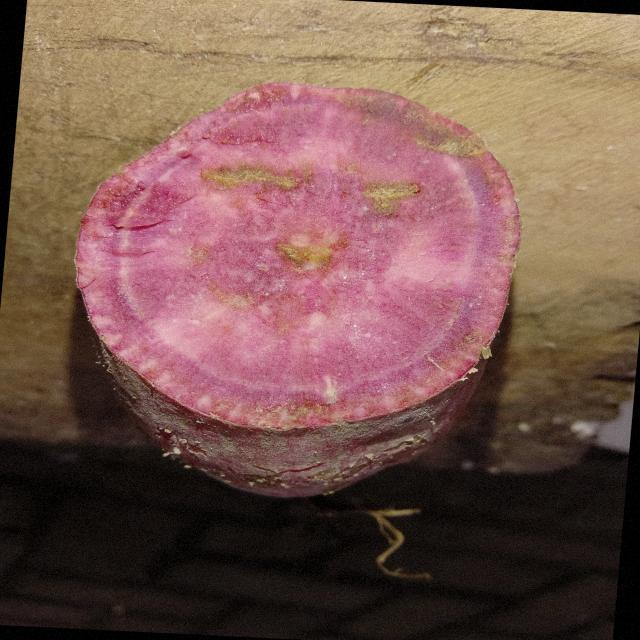Sick Sweet Potato_Tuber Rot: (77, 84, 520, 428)
